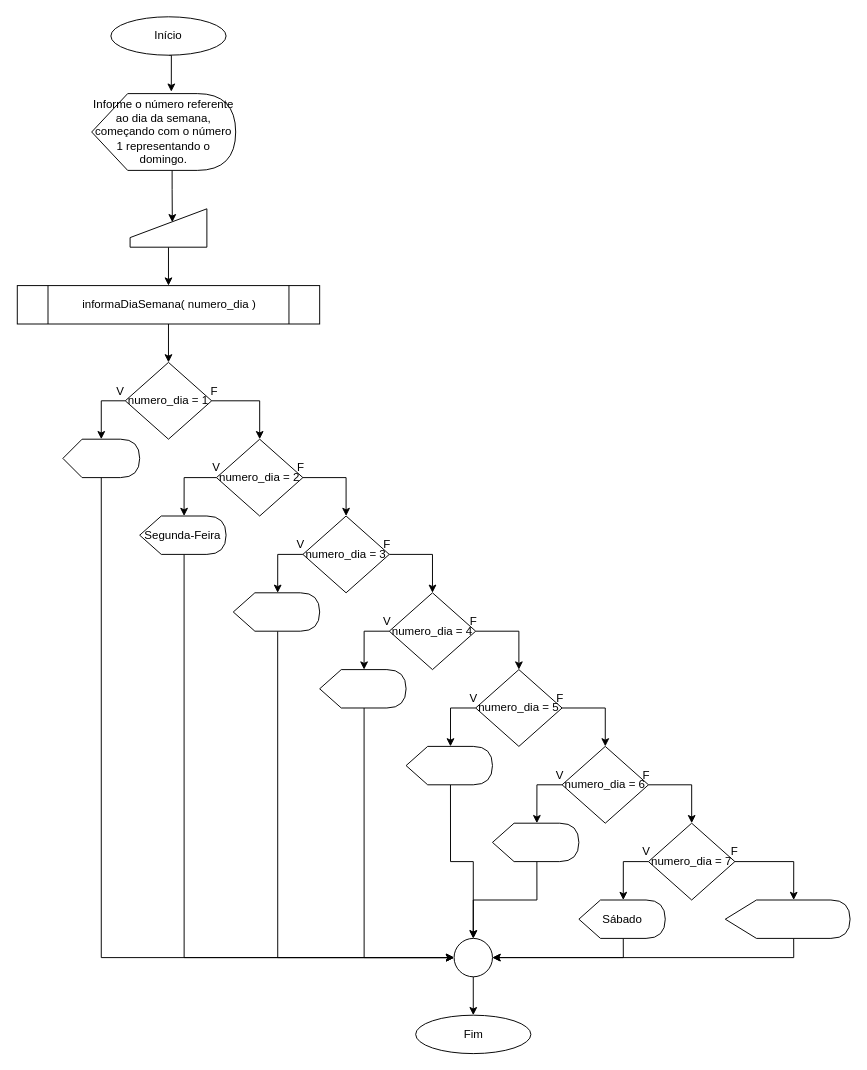
This 867x1070 diagram has some shape labels left out. The shapes that lost their labels are listed below. From the top down, each one's centre as x and y in pixels, then its label:
At (x=168, y=227): "numero_dia".
At (x=101, y=458): "Domingo".
At (x=276, y=611): "Terça-Feira".
At (x=362, y=688): "Quarta-Feira".
At (x=448, y=765): "Quinta-Feira".
At (x=535, y=842): "Sexta-Feira".
At (x=787, y=918): "Nenhum dia da semana é representado com número".
